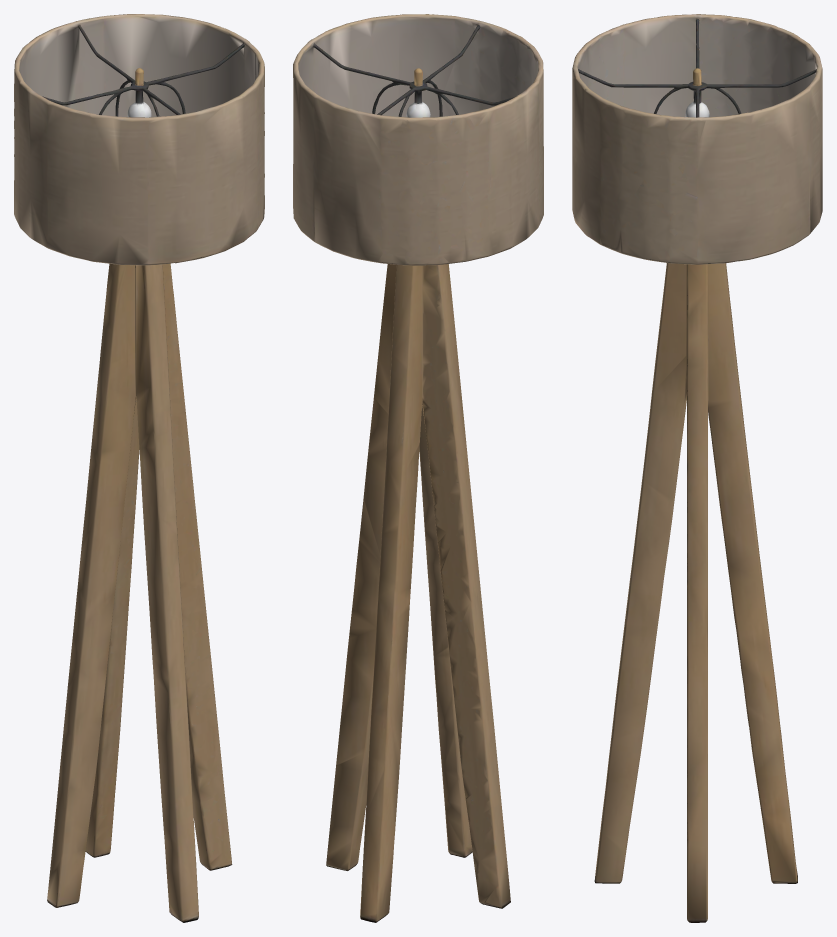
The model's file is floor-lamp.glb.
3 renders of one model, left to right at view 1: azimuth 30°, elevation 25°; view 2: azimuth 150°, elevation 25°; view 3: azimuth 270°, elevation 25°, orthographic.
Parts seen in each view (by area): view 1: floor-lamp-normalized; view 2: floor-lamp-normalized; view 3: floor-lamp-normalized.
Part boxes in pixels (x1,y1,x2,y2): floor-lamp-normalized: (14, 14, 264, 922); floor-lamp-normalized: (293, 14, 543, 922); floor-lamp-normalized: (572, 14, 822, 922).
Size of the model in its own units: 0.4601 by 1.65 by 0.4601.
Materials: 1 (1 with a texture image).
